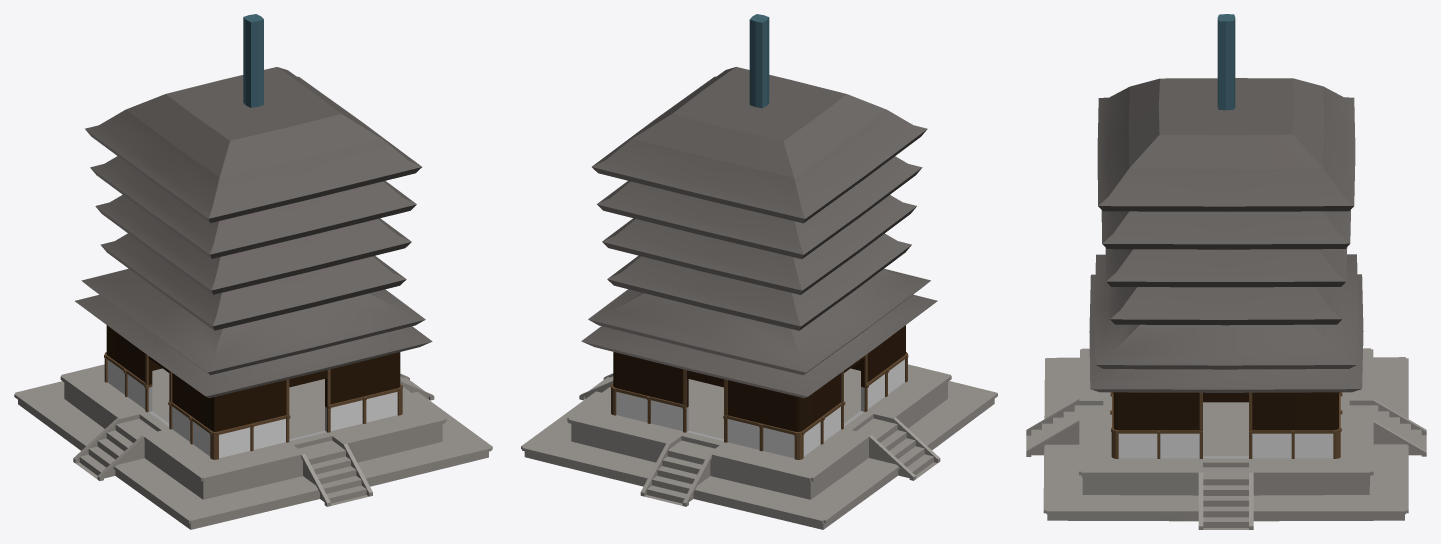
The model's file is TT_Pagoda.fbx.
3 views of the same model, side by side, from view 1: azimuth 30°, elevation 25°; view 2: azimuth 150°, elevation 25°; view 3: azimuth 270°, elevation 25° (orthographic). The views are drawn at different scales.
Parts seen in each view (by area): view 1: Pagoda; view 2: Pagoda; view 3: Pagoda.
Boxes of the visible parts, x1,y1,x2,y2 form: Pagoda: (14, 14, 492, 529); Pagoda: (521, 14, 997, 529); Pagoda: (1026, 14, 1426, 529).
Bounding box in the file's own units: 1240 × 1461 × 1240.
